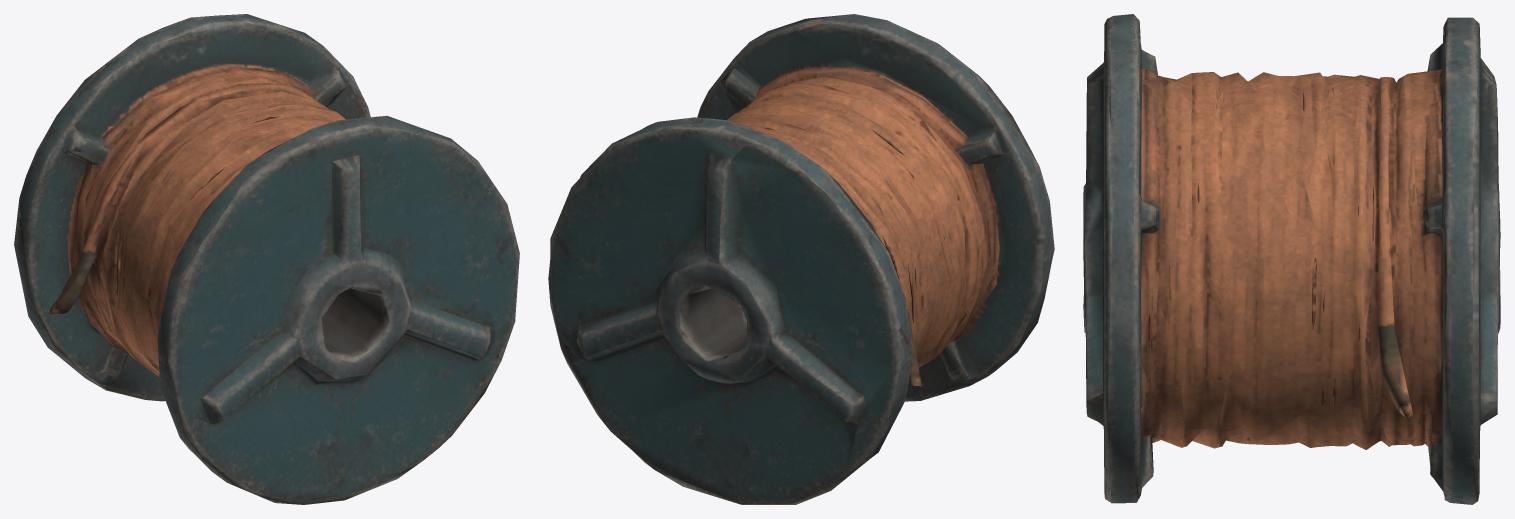
The model's file is copper_wire_spool.glb.
The picture shows the model from 3 angles, left to right: view 1: azimuth 30°, elevation 25°; view 2: azimuth 150°, elevation 25°; view 3: azimuth 270°, elevation 25°; orthographic projection. The views are drawn at different scales.
Size of the model in its own units: 0.28 by 0.28 by 0.24.
Materials: 1 (1 with a texture image).
